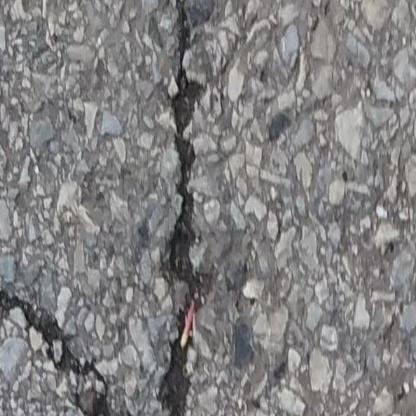Cracks: (0, 0, 229, 416)
